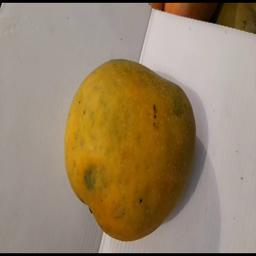Mango Semifresh: (56, 55, 199, 241)
